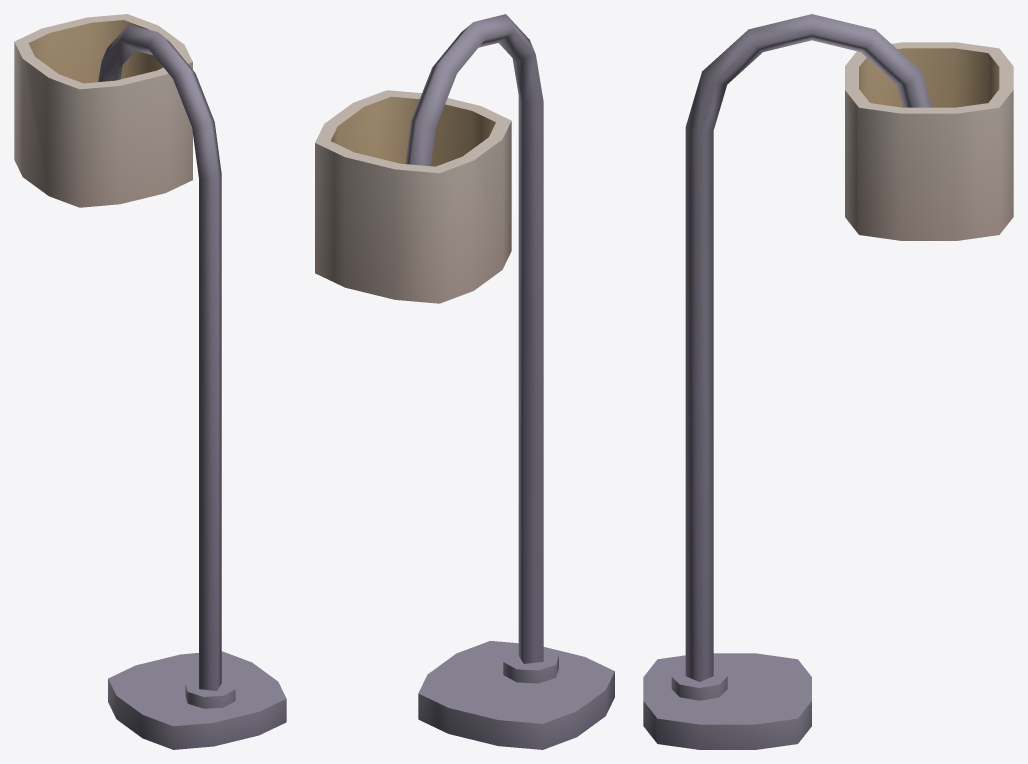
File: lamp-straight-curved-standing.glb
3 renders of one model, left to right at view 1: azimuth 30°, elevation 25°; view 2: azimuth 150°, elevation 25°; view 3: azimuth 270°, elevation 25°, orthographic. The views are drawn at different scales.
Parts seen in each view (by area): view 1: lamp-straight-curved-standing; view 2: lamp-straight-curved-standing; view 3: lamp-straight-curved-standing.
Boxes of the visible parts, box(x1,y1,x2,y2) form: lamp-straight-curved-standing: box(14, 14, 286, 749); lamp-straight-curved-standing: box(315, 14, 614, 749); lamp-straight-curved-standing: box(643, 14, 1013, 749).
Size of the model in its own units: 0.3 by 1.38 by 0.6588.
